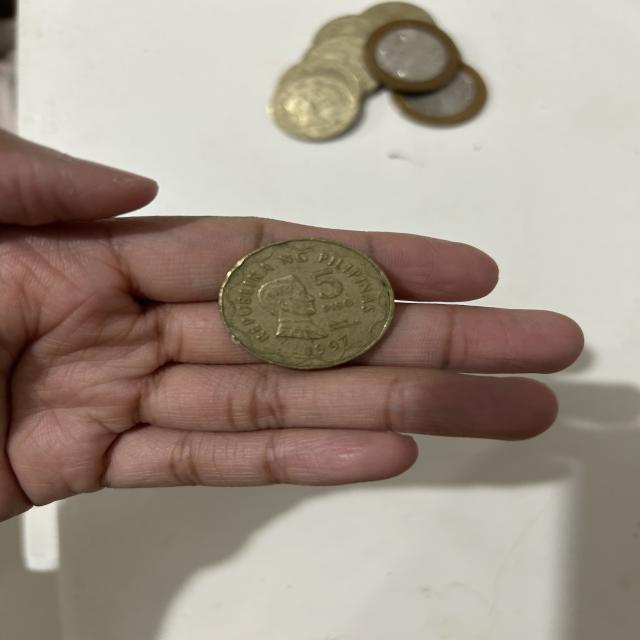5_Old_Front: (302, 266, 358, 323)
